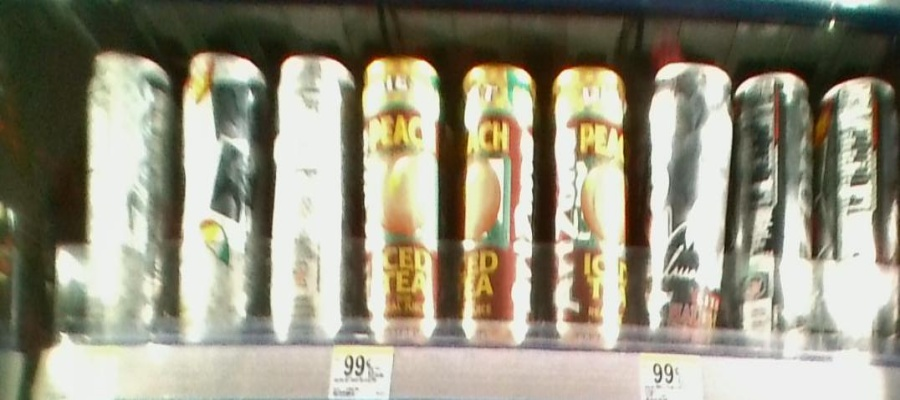bottle: (78, 36, 171, 353), (356, 29, 447, 343), (174, 32, 264, 347), (545, 34, 628, 357), (644, 41, 729, 349), (732, 46, 816, 352), (269, 34, 352, 341), (458, 39, 539, 348), (820, 62, 896, 355)
